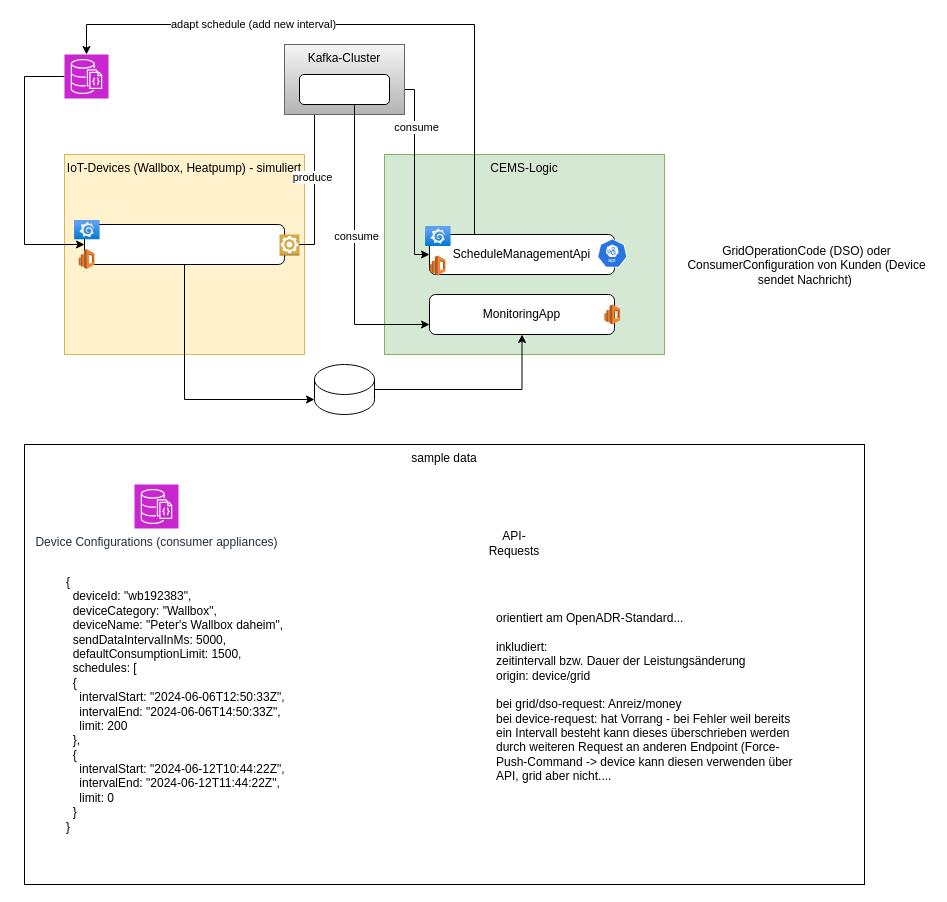
This 947x902 diagram has some shape labels left out. The box of each missing label's shape, as (x1, y1, x2, y2) in pixels:
Device Configurations: (64, 54, 108, 98)
realtimedata: (298, 74, 390, 104)
RealTimeDataGenerator: (84, 224, 284, 264)
Smart Meter Daten: (314, 364, 374, 414)
